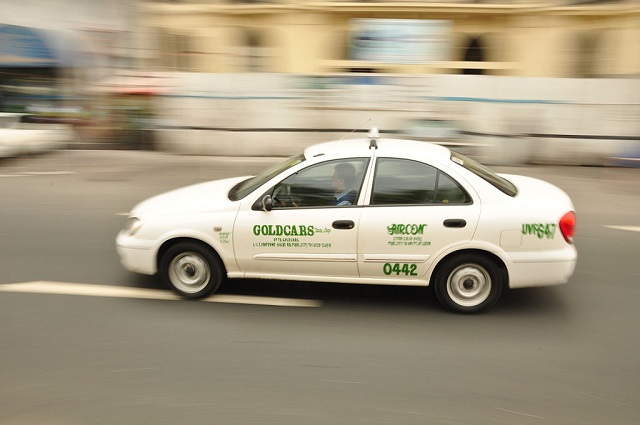car: (115, 128, 577, 314)
